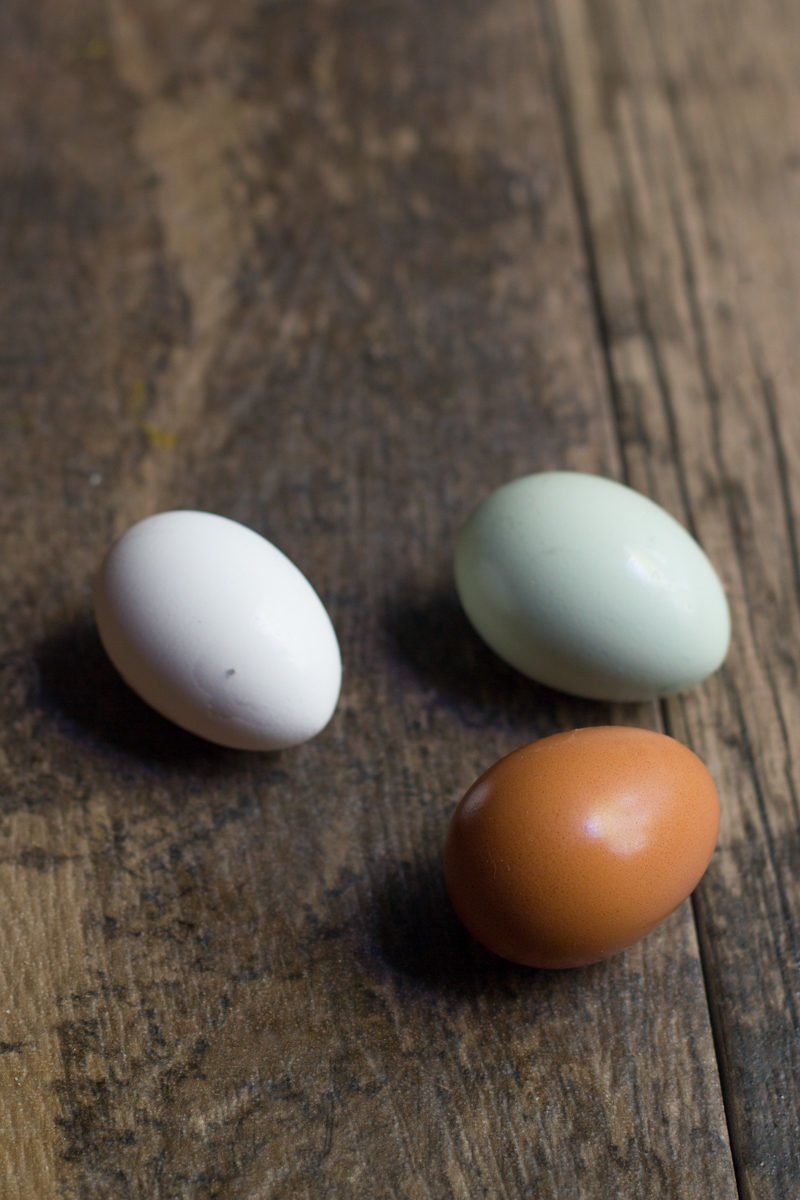Egg: (82, 489, 359, 765)
